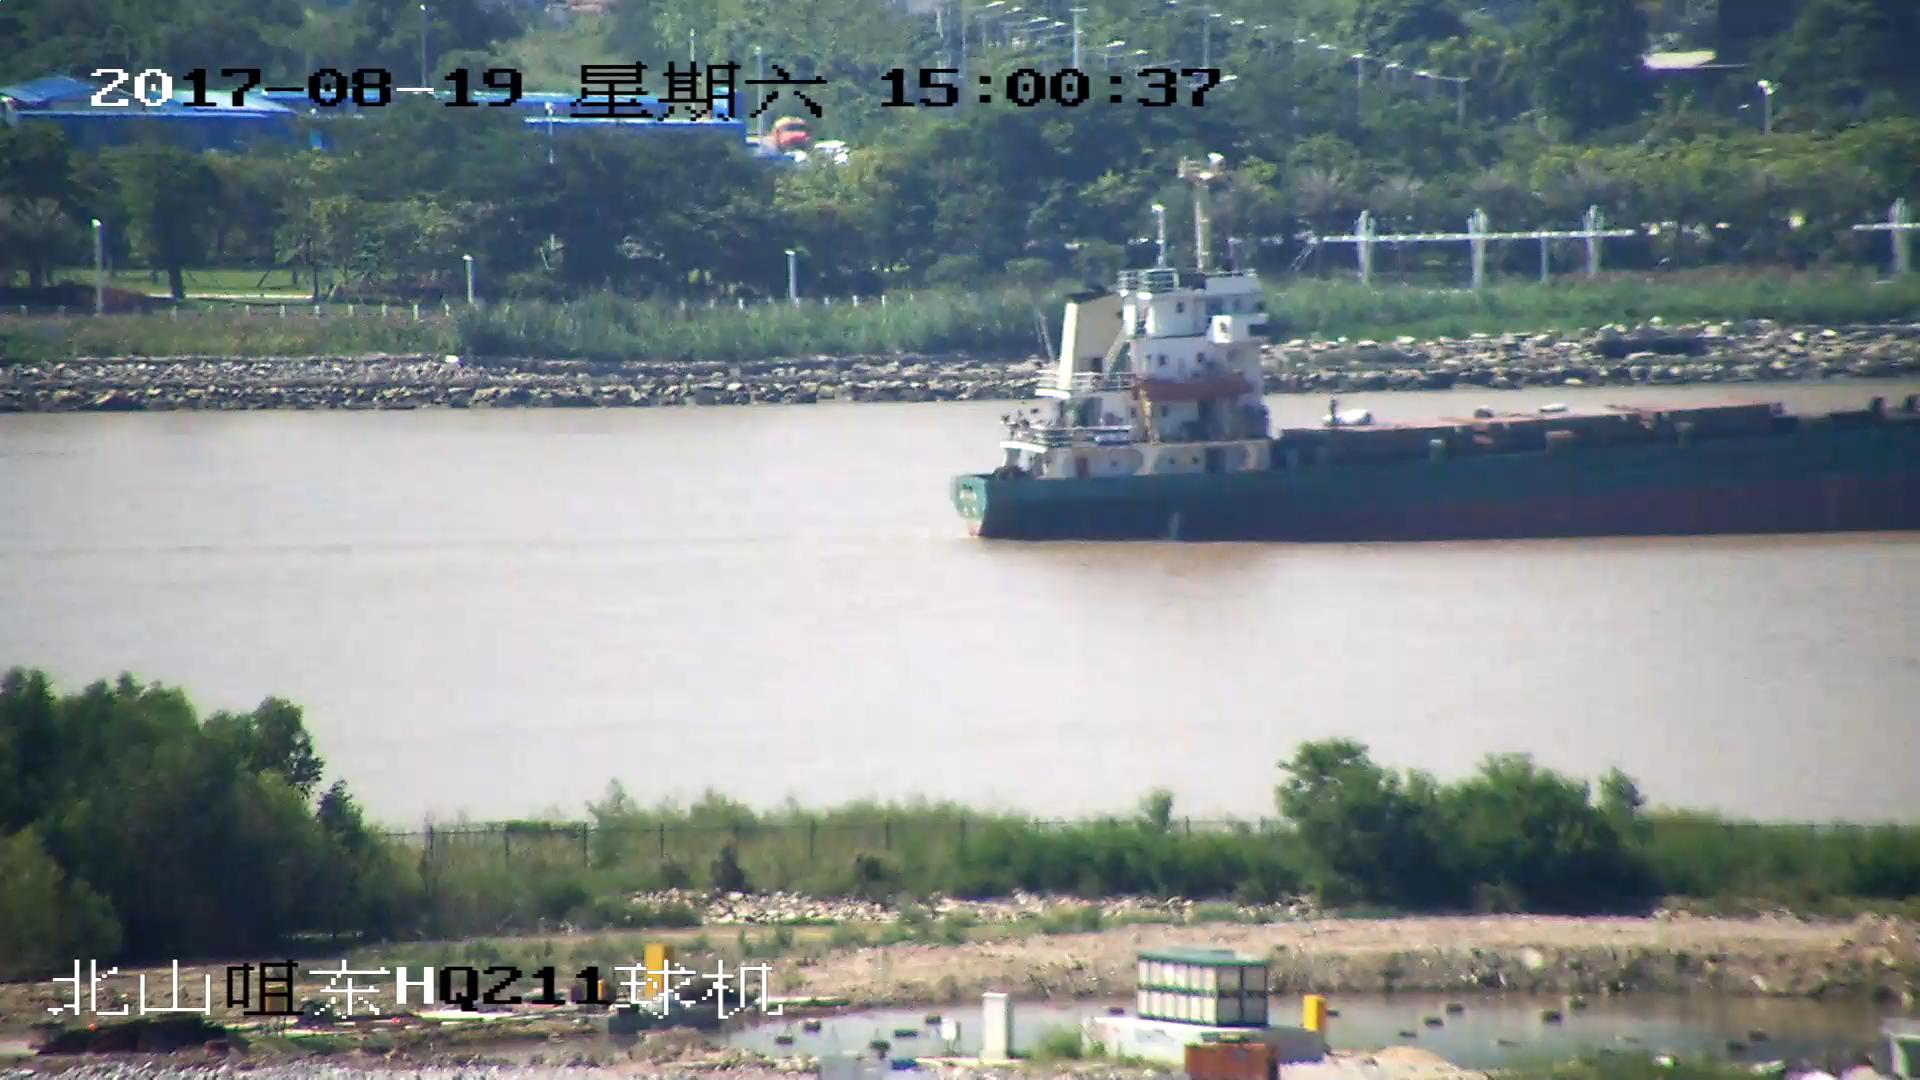Ship: (952, 235, 1920, 541)
